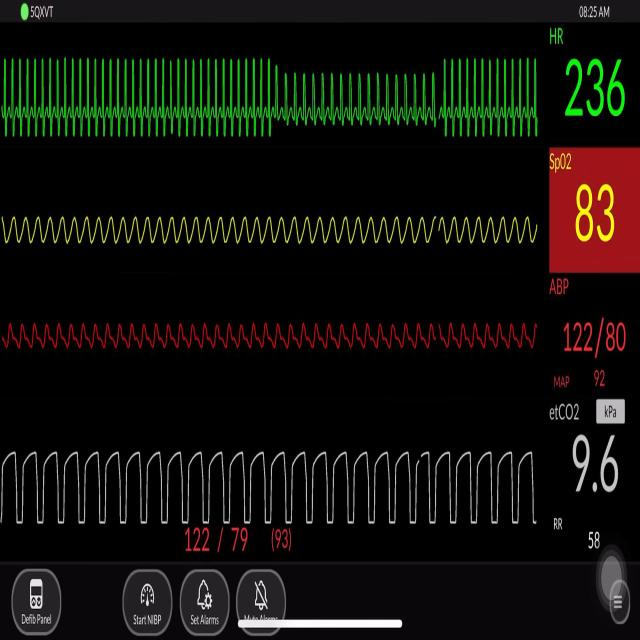danger: (0, 49, 274, 144), (283, 54, 440, 133), (448, 52, 540, 139)
